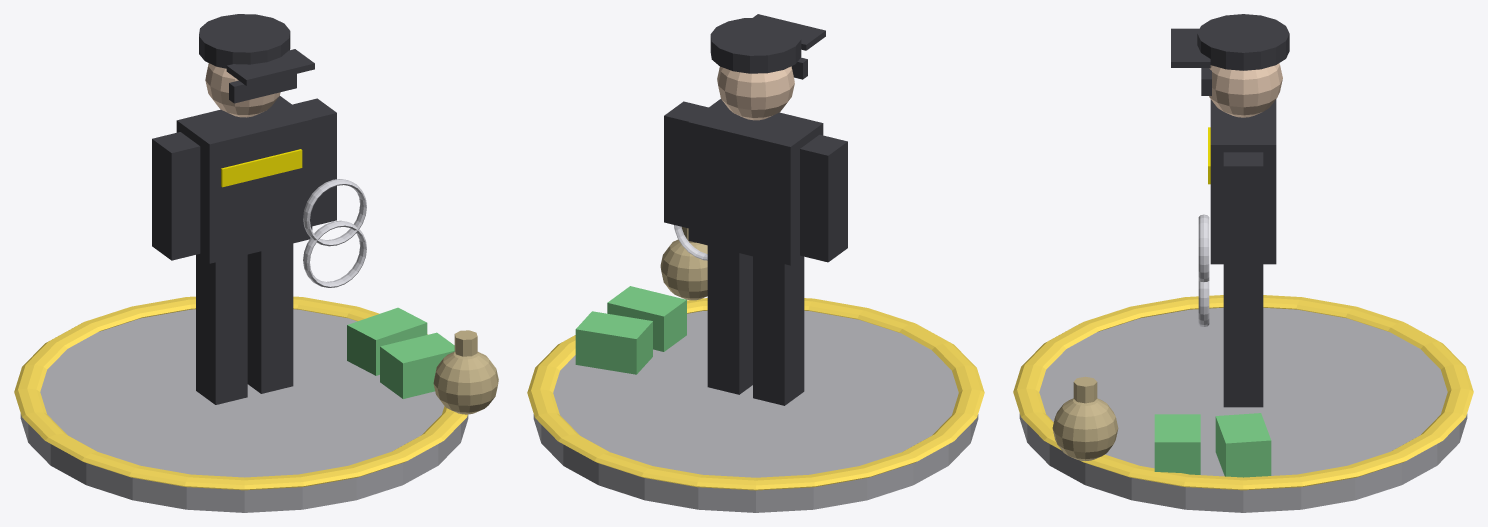
Rendered from Agente_L2.fbx.
3 renders of one model, left to right at view 1: azimuth 30°, elevation 25°; view 2: azimuth 150°, elevation 25°; view 3: azimuth 270°, elevation 25°, orthographic.
Parts seen in each view (by area): view 1: Agente_L2.001; view 2: Agente_L2.001; view 3: Agente_L2.001.
Part boxes in pixels (<box>): Agente_L2.001: <box>14,14,498,512</box>; Agente_L2.001: <box>527,14,984,512</box>; Agente_L2.001: <box>1013,14,1473,512</box>.
Bounding box in the file's own units: 3.5 × 3.23 × 3.5.
